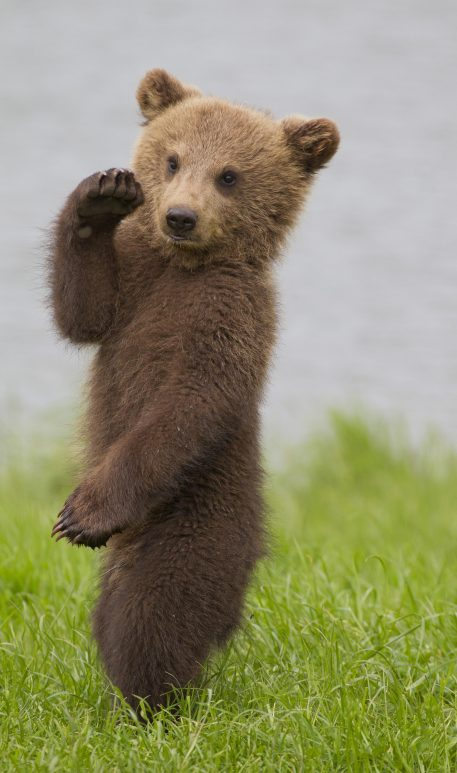bear: (131, 64, 345, 252)
